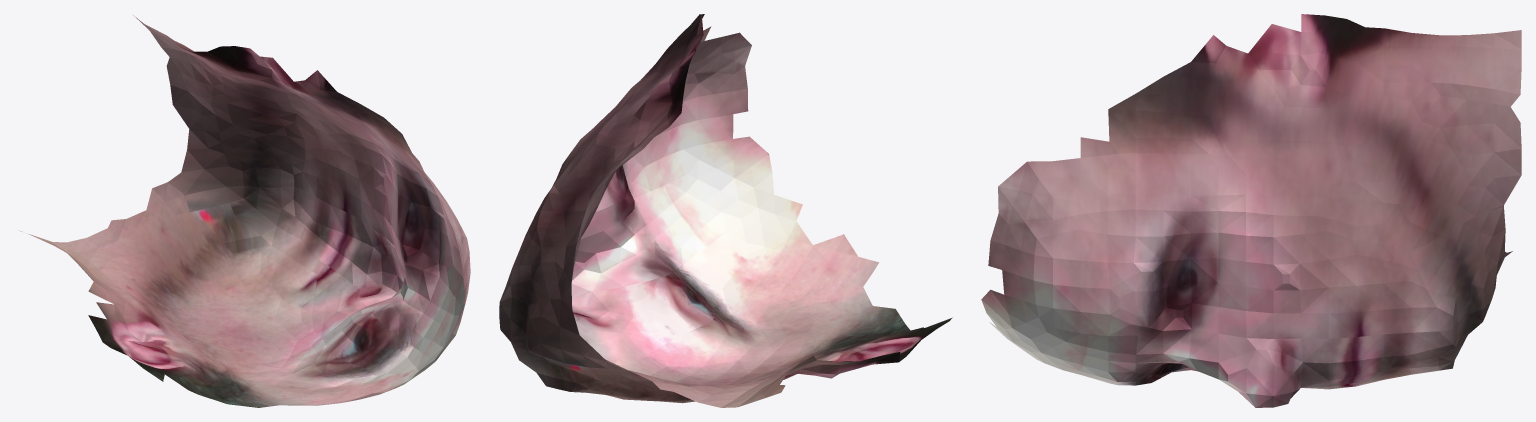
File: nicoHead.obj
3 views of the same model, side by side, from view 1: azimuth 30°, elevation 25°; view 2: azimuth 150°, elevation 25°; view 3: azimuth 270°, elevation 25° (orthographic). The views are drawn at different scales.
Size of the model in its own units: 173 by 162 by 223.
1 material, 1 textured.
